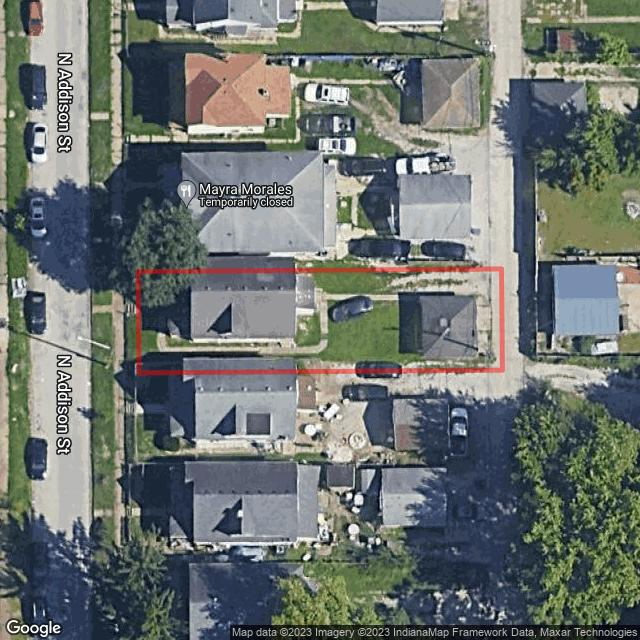Driveway: (156, 285, 419, 354), (124, 300, 136, 318), (369, 295, 398, 301)
Extra Lawn: (90, 313, 114, 374), (124, 313, 137, 375), (92, 290, 111, 305)
Extra Sidewalk: (91, 290, 125, 376)
House: (190, 272, 296, 339)
Other: (417, 294, 478, 358), (182, 358, 295, 369), (296, 273, 316, 316)
Sidewalk: (393, 270, 500, 369)
